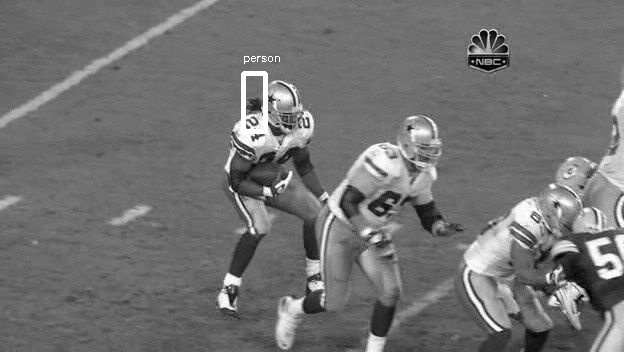person: (267, 82, 303, 128), (266, 82, 302, 128), (268, 82, 304, 128), (267, 81, 303, 127), (267, 83, 303, 129)
target_negative: (9, 200, 614, 350), (45, 104, 145, 243), (84, 325, 561, 352), (314, 319, 555, 351), (512, 280, 598, 329), (583, 149, 592, 227)
